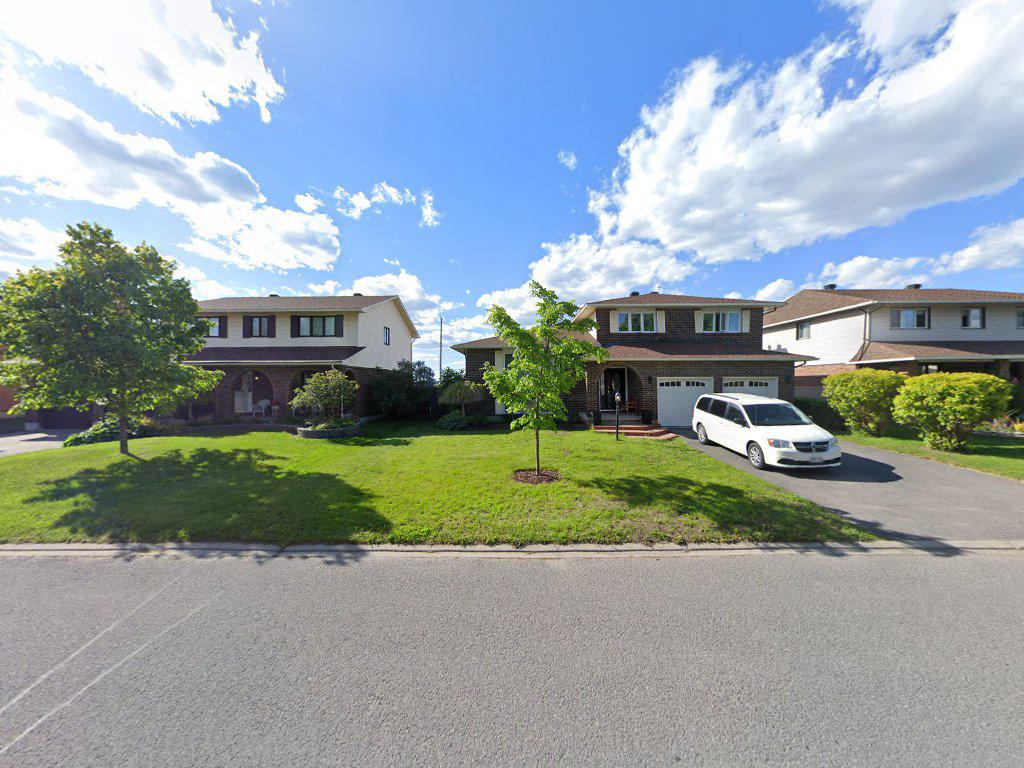trunk: (113, 396, 131, 464)
